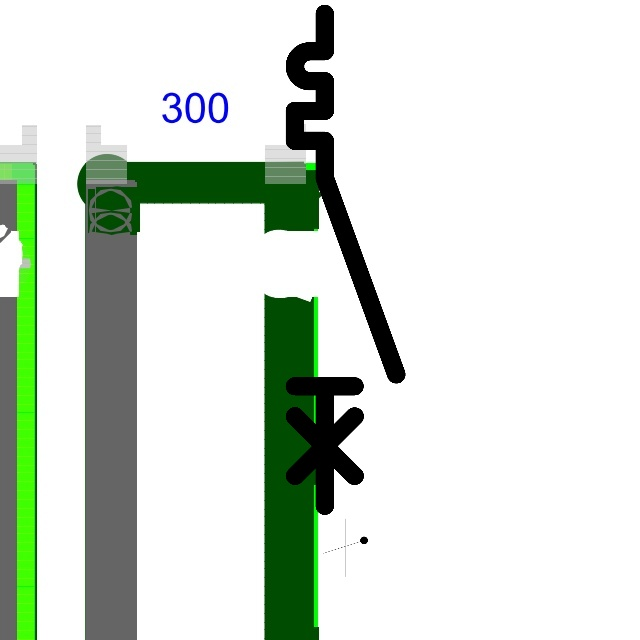interruptor_termomagnetico: (282, 1, 408, 518)
